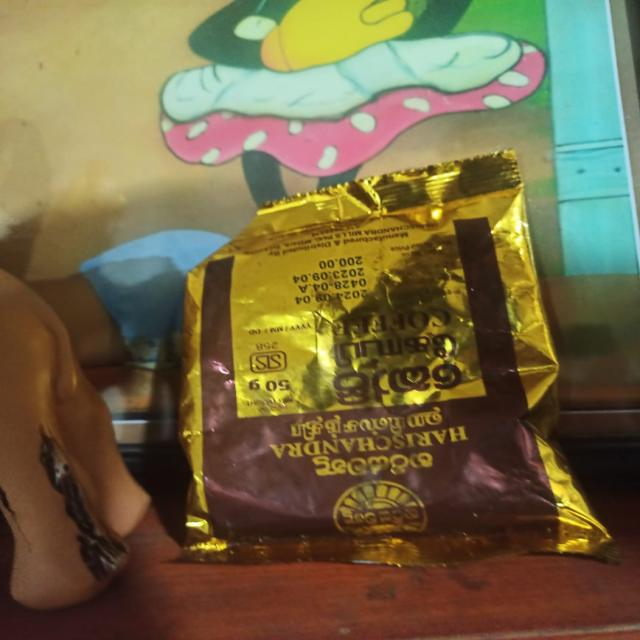Harischandra Coffee: (184, 227, 555, 565)
